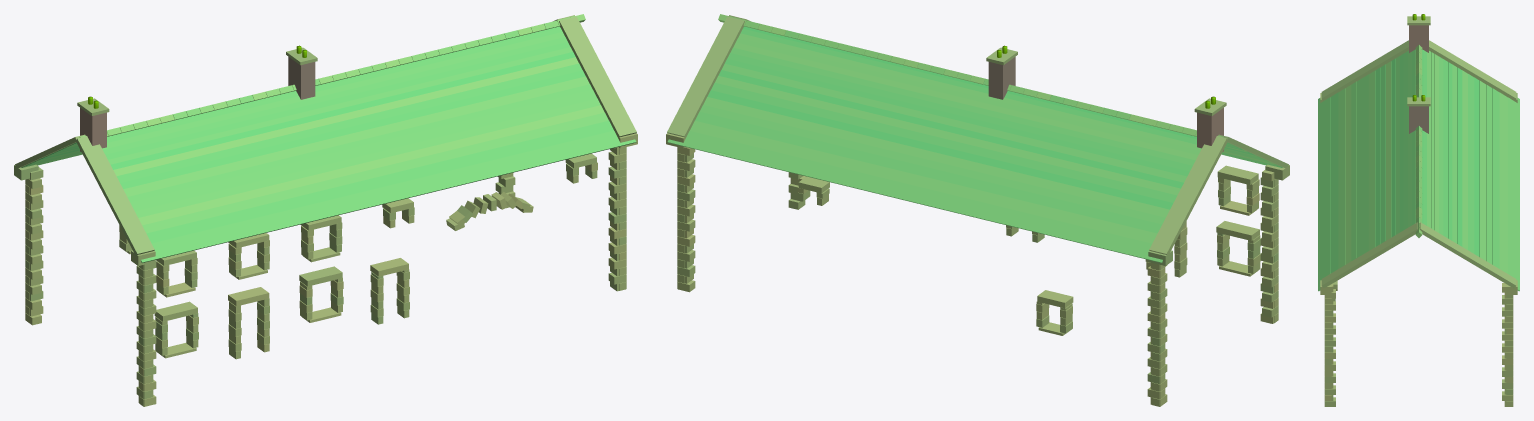
Rendered from SM_Bld_080_Stone.glb.
3 renders of one model, left to right at view 1: azimuth 30°, elevation 25°; view 2: azimuth 150°, elevation 25°; view 3: azimuth 270°, elevation 25°, orthographic. The views are drawn at different scales.
Visible parts, largest first — view 1: SM_Bld_080_Stone; view 2: SM_Bld_080_Stone; view 3: SM_Bld_080_Stone.
Boxes of the visible parts, bbox=[...] form: SM_Bld_080_Stone: bbox=[14, 14, 637, 406]; SM_Bld_080_Stone: bbox=[666, 14, 1289, 406]; SM_Bld_080_Stone: bbox=[1318, 14, 1519, 406].
Bounding box in the file's own units: 21.05 × 10.37 × 9.11.
